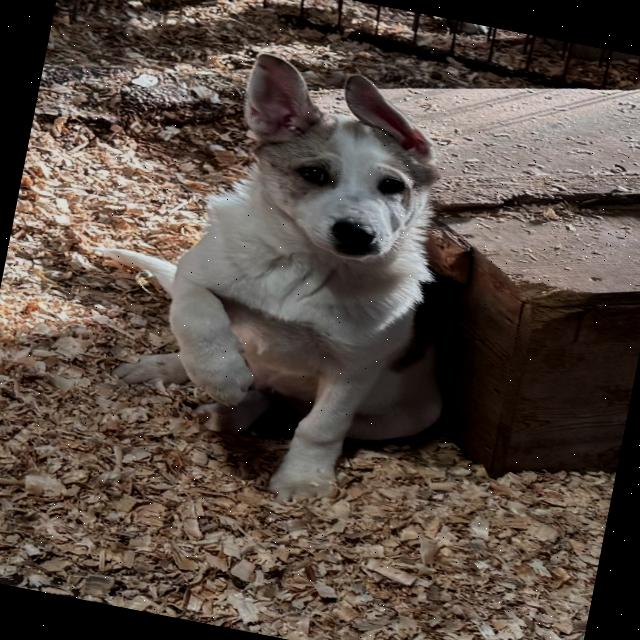corgi_dog: (190, 45, 480, 288)
